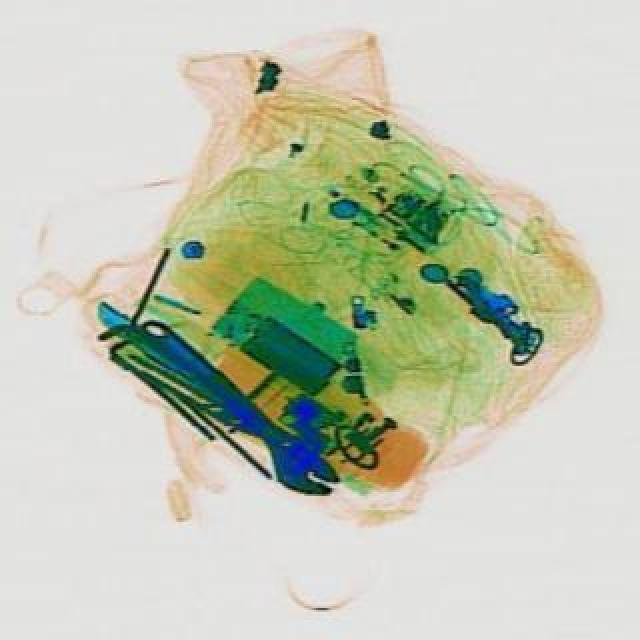scissors: (122, 304, 348, 510)
